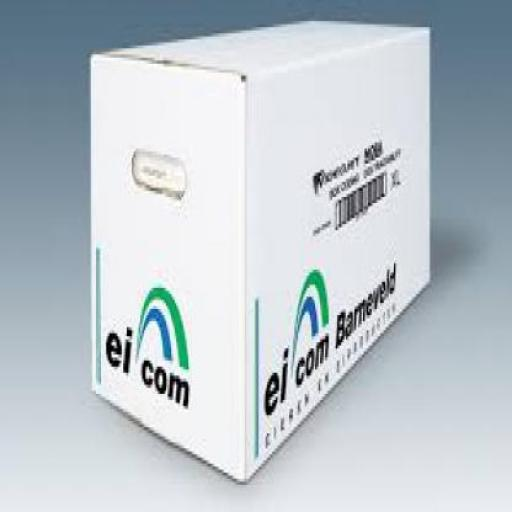cardboard: (85, 18, 428, 482)
